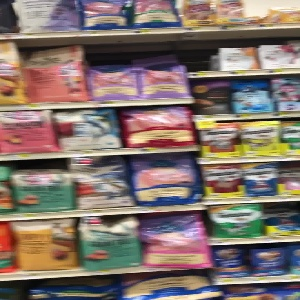void: (179, 30, 218, 72)
